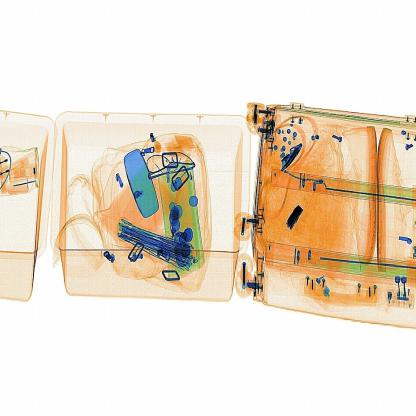scissors: (285, 198, 304, 231)
